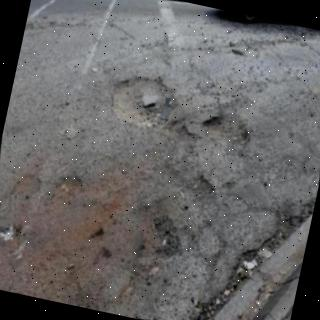pothole: (112, 75, 174, 128), (193, 113, 252, 150)
